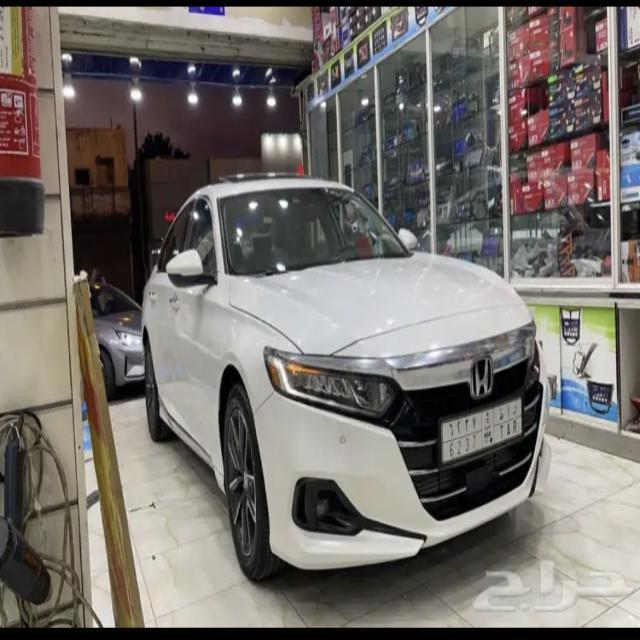license_plate: (442, 398, 527, 472)
